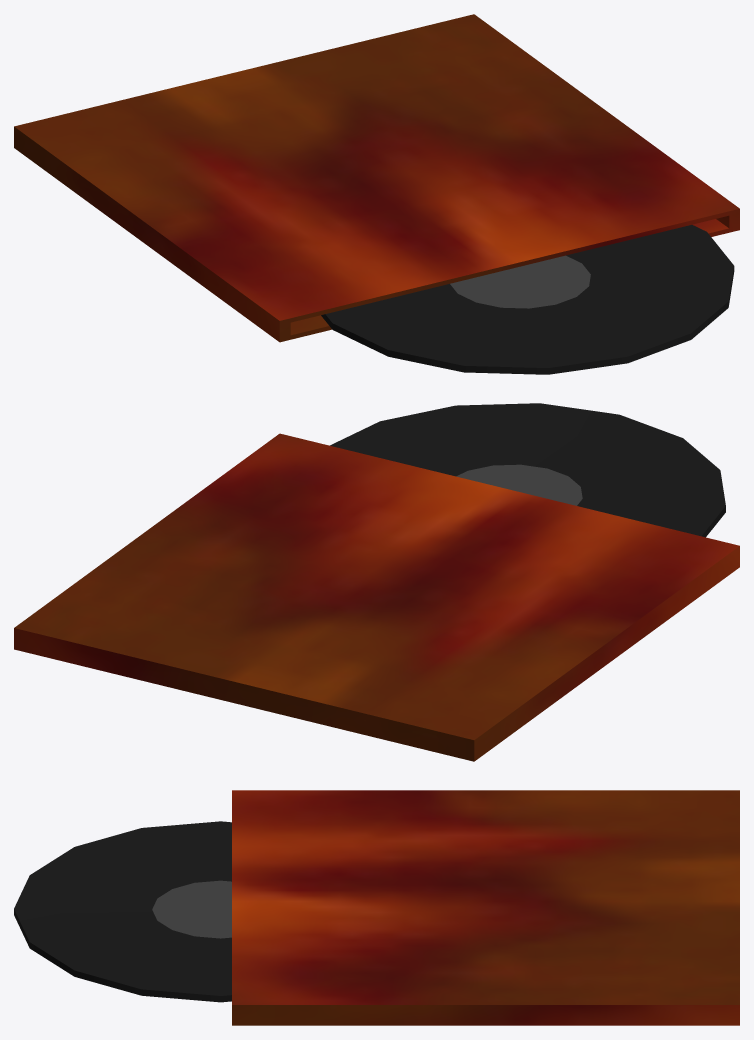
3 views of the same model, one above another, from view 1: azimuth 30°, elevation 25°; view 2: azimuth 150°, elevation 25°; view 3: azimuth 270°, elevation 25° (orthographic). The views are drawn at different scales.
Visible parts, largest first — view 1: fbx_LP_2; view 2: fbx_LP_2; view 3: fbx_LP_2.
Boxes of the visible parts, x1,y1,x2,y2 form: fbx_LP_2: [14, 14, 739, 374]; fbx_LP_2: [14, 403, 739, 761]; fbx_LP_2: [14, 790, 739, 1025].
Bounding box in the file's own units: 0.4618 × 0.0206 × 0.6599.
Materials: 2 (2 with a texture image).
